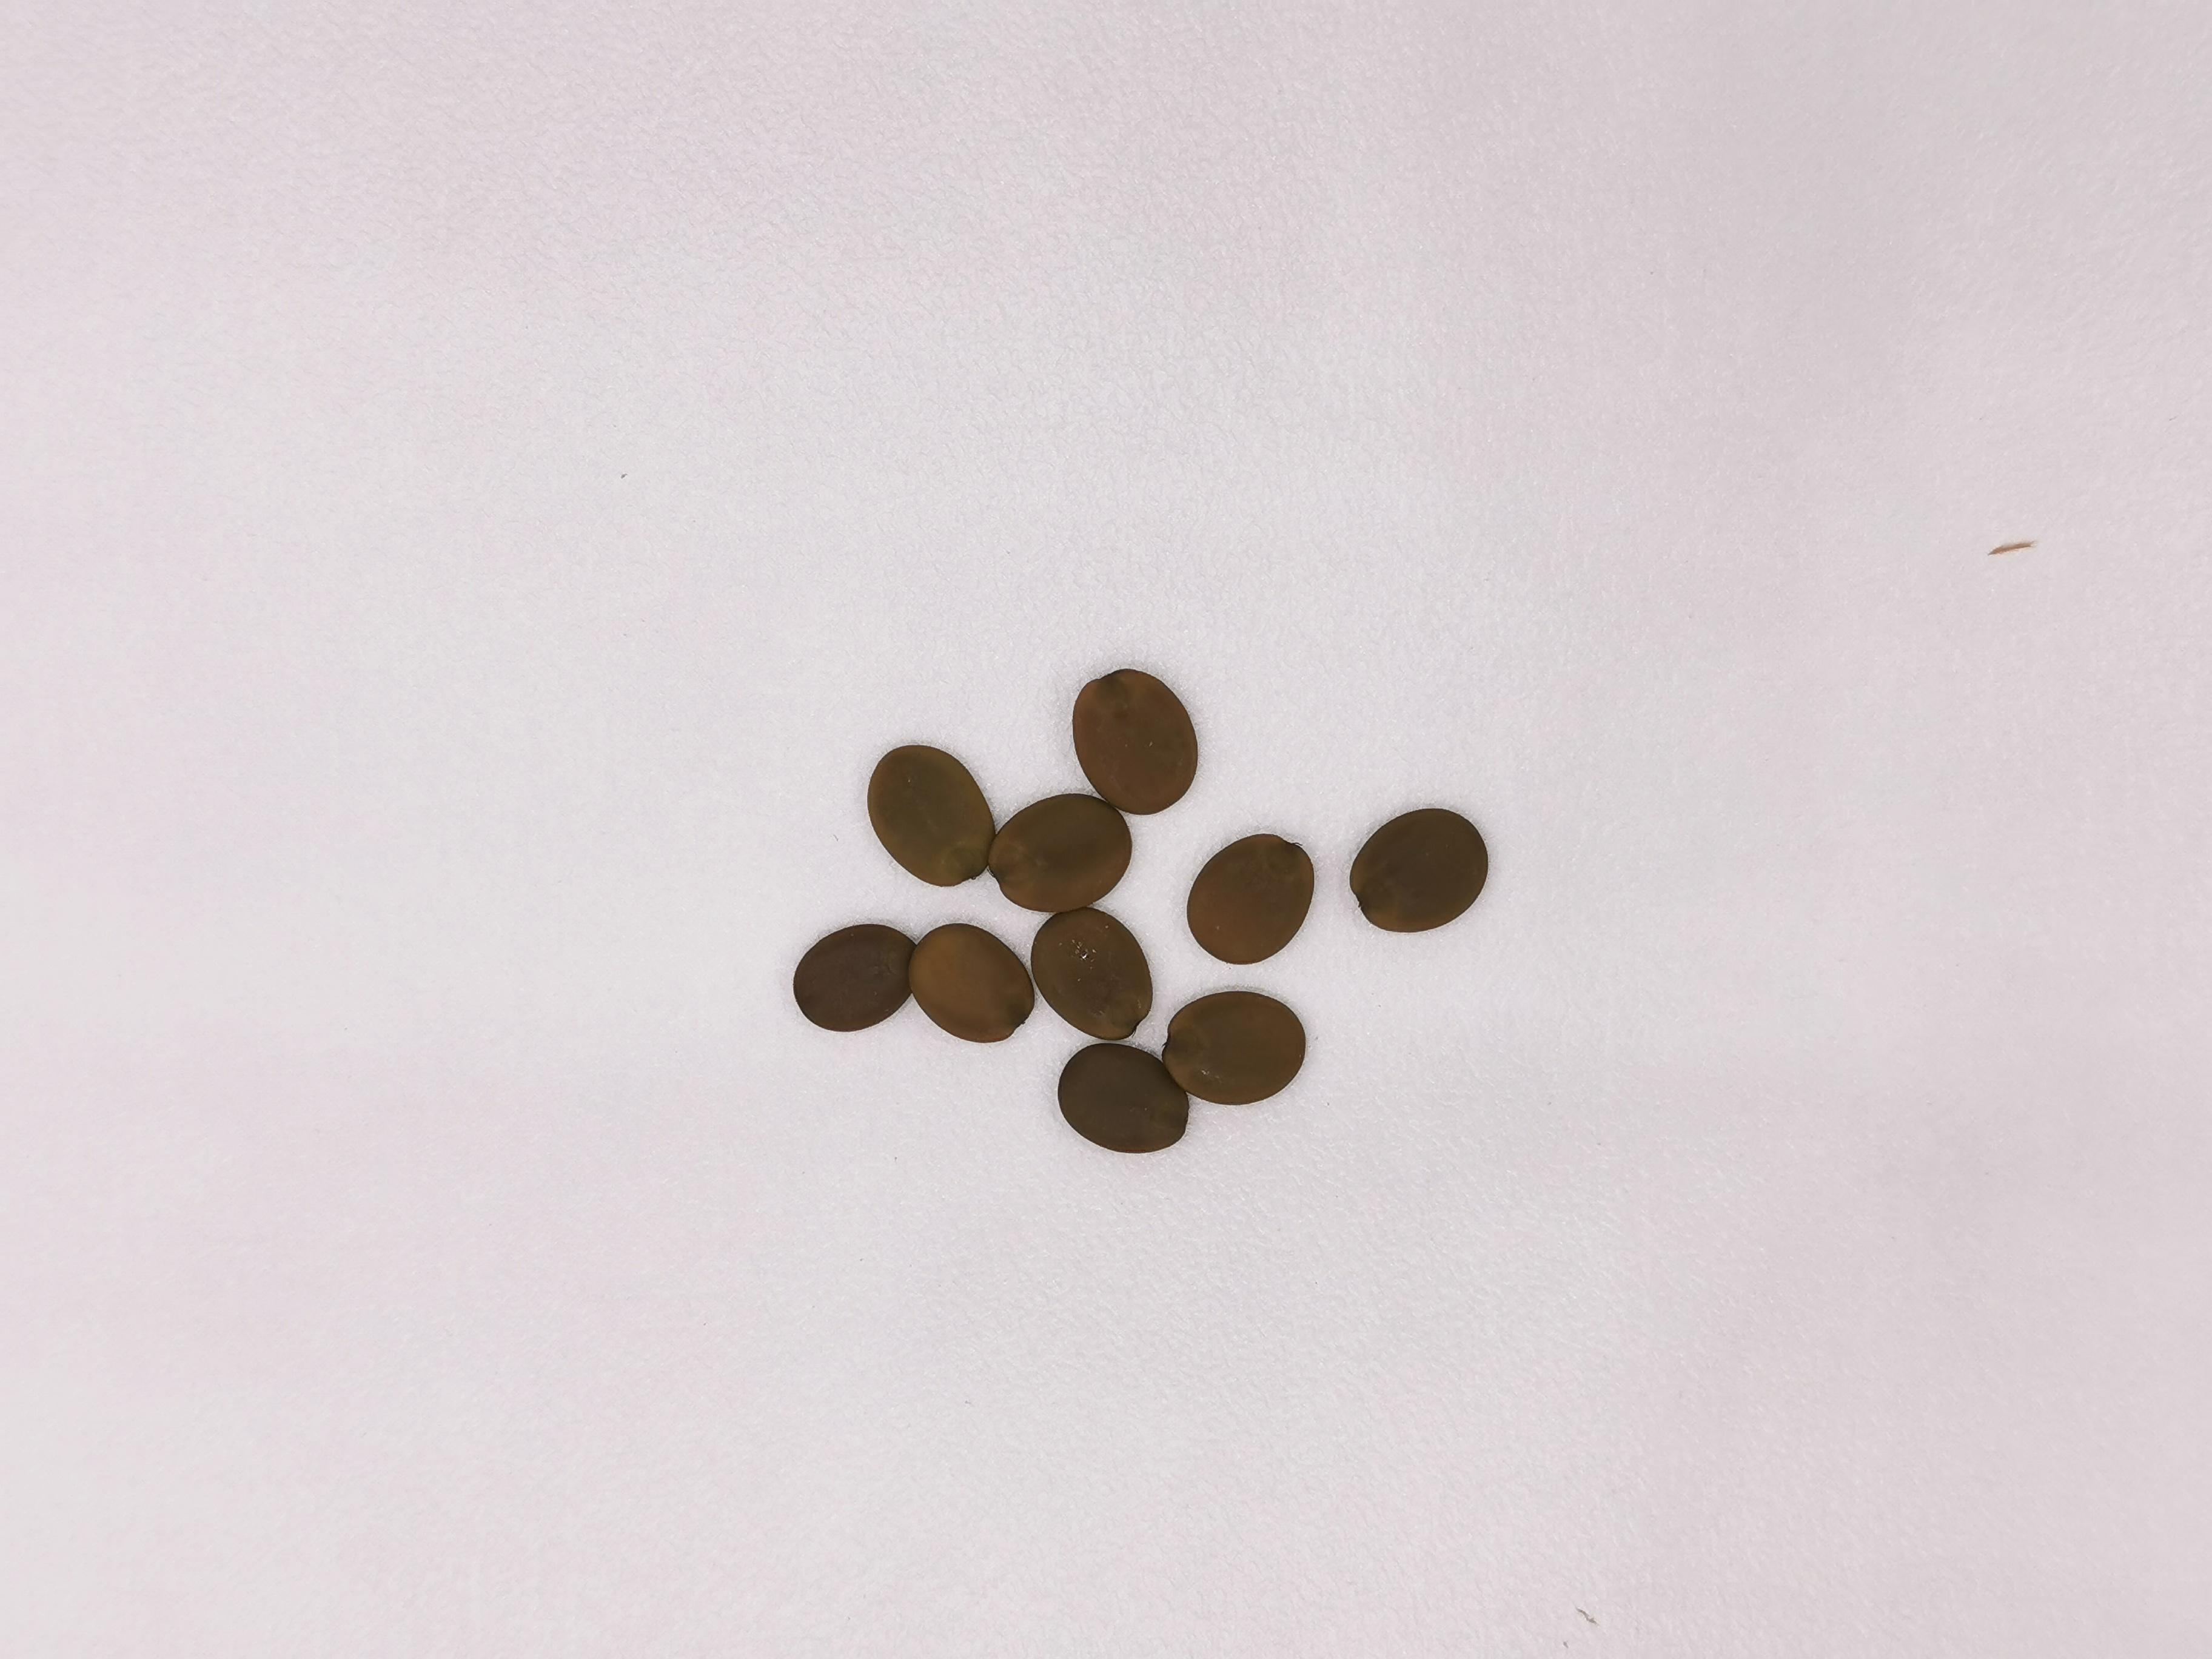seed: (1066, 669, 1202, 810), (1345, 802, 1493, 931), (867, 746, 996, 884), (984, 795, 1137, 910), (1184, 833, 1315, 962), (1165, 992, 1305, 1107), (1029, 908, 1150, 1040), (907, 922, 1035, 1042), (1055, 1042, 1190, 1152), (792, 922, 914, 1030)
